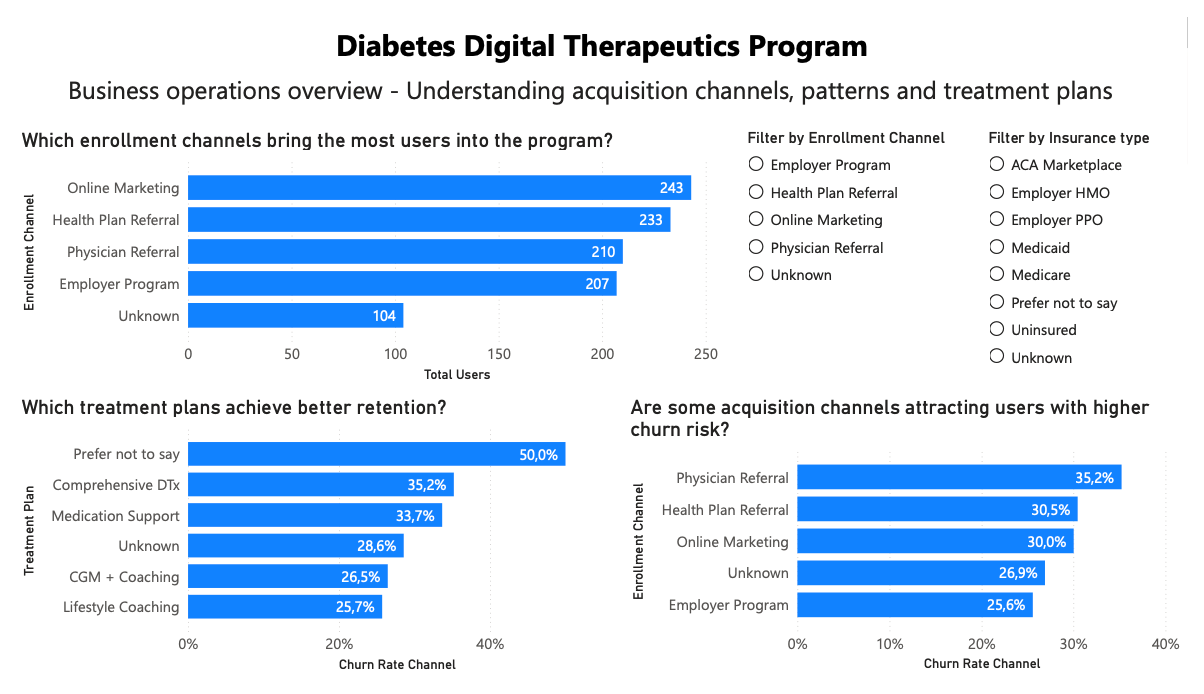

Layout of this report page (visuals, bound fields, positions):
{"tool":"powerbi","page":{"name":"Business Operations","canvas":[1280,720],"ordinal":2},"visuals":[{"type":"textbox","box":[9.4,54.7,1243.4,49.1],"z":0},{"type":"clusteredBarChart","title":"Which enrollment channels bring the most users into the program?","fields":{"Category":["users.clean_enrollment_channel"],"Y":["users.Total Users"]},"box":[0,120.8,794.3,281.1],"z":1000},{"type":"clusteredBarChart","title":"Are some acquisition channels attracting users with higher churn risk?","fields":{"Category":["users.clean_enrollment_channel"],"Y":["users.Churn Rate Channel"]},"box":[666,413.2,613.2,305.7],"z":2000},{"type":"barChart","title":"Which treatment plans achieve better retention?","fields":{"Category":["users.clean_treatment_plan"],"Y":["users.Churn Rate Channel"]},"box":[0,413.2,666,305.7],"z":3000},{"type":"listSlicer","fields":{"Values":["users.clean_insurance_type"]},"box":[1056.6,120.8,196.2,281.1],"z":4000},{"type":"listSlicer","fields":{"Values":["users.clean_enrollment_channel"]},"box":[794.3,120.8,230.2,198.1],"z":5000},{"type":"textbox","box":[330.2,1.9,618.9,52.8],"z":6001}]}

Visuals, with their boxes in screenshot pixels (x1, y1, x2, y2), scaled from the page's 1280x720 canvas onto the 1204x694 screenshot:
textbox: 9,53,1178,100
"Which enrollment channels bring the most users into the program?" clusteredBarChart: 0,116,747,387
"Are some acquisition channels attracting users with higher churn risk?" clusteredBarChart: 626,398,1203,693
"Which treatment plans achieve better retention?" barChart: 0,398,626,693
listSlicer - users.clean_insurance_type: 994,116,1178,387
listSlicer - users.clean_enrollment_channel: 747,116,964,307
textbox: 311,2,893,53
